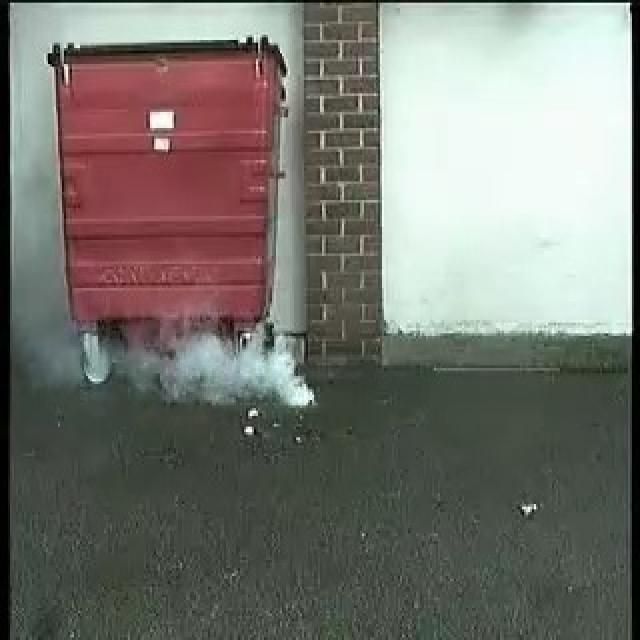smoke: (134, 333, 312, 407)
